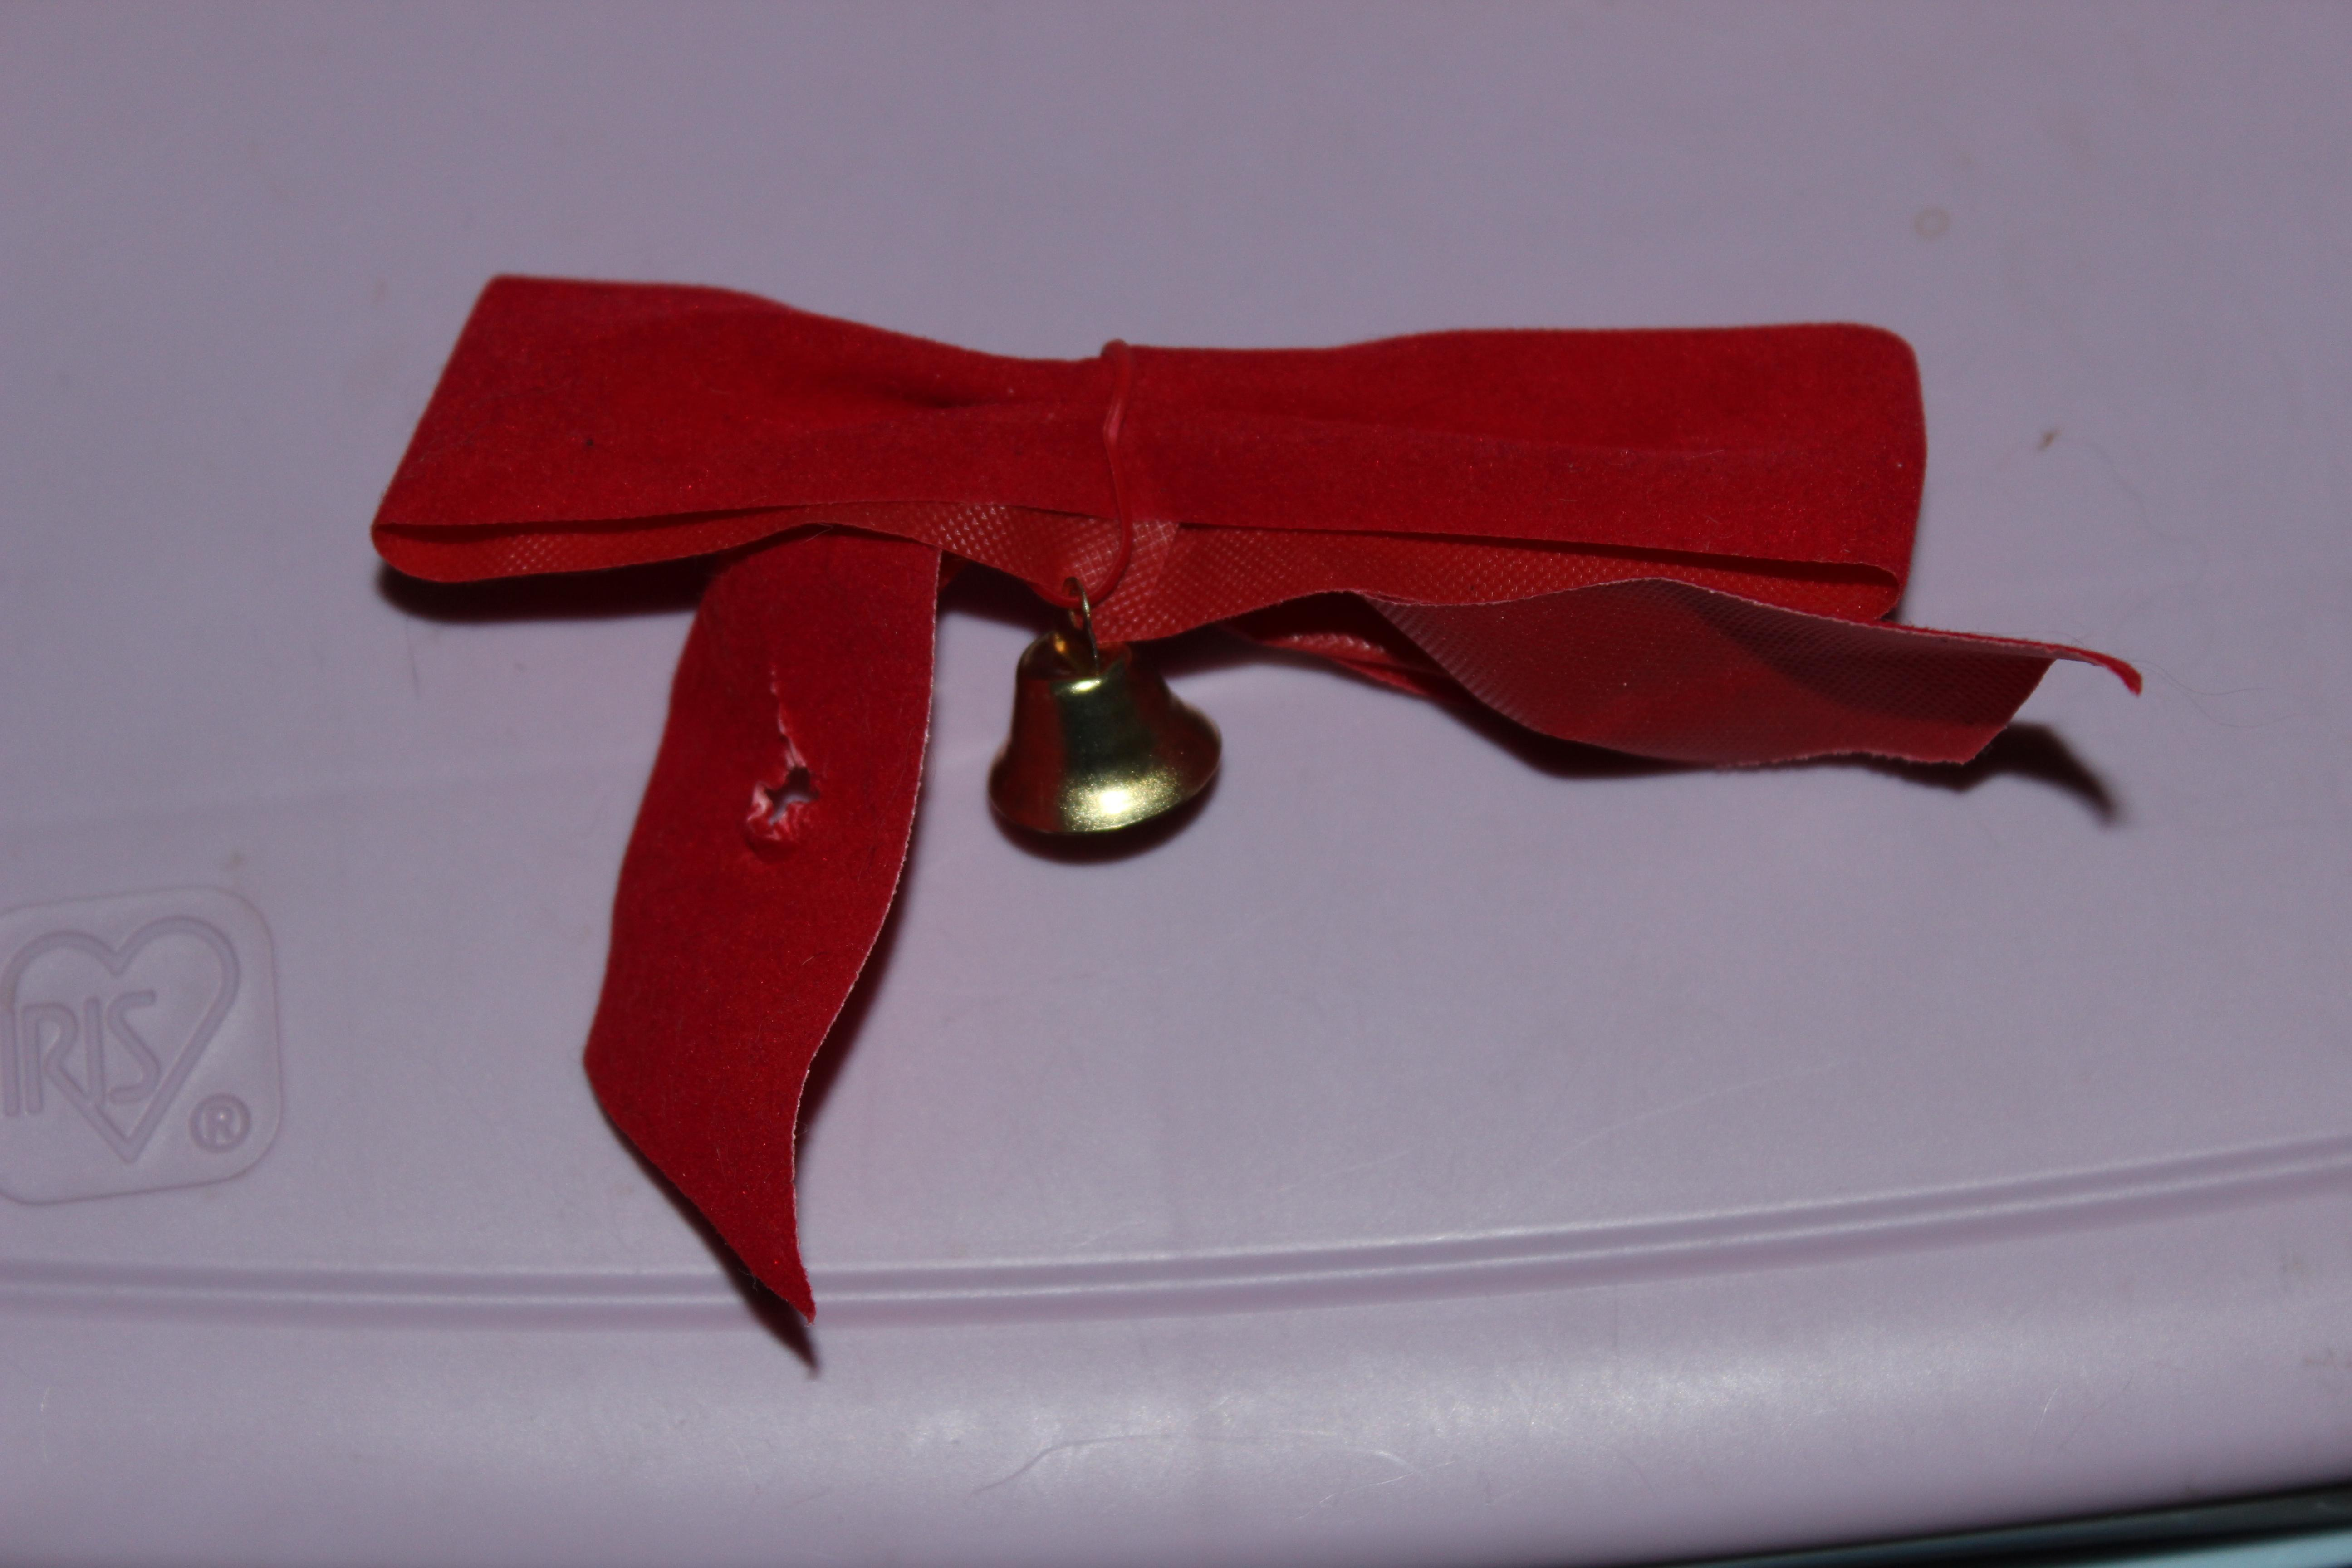redBow: (336, 226, 2198, 1412)
